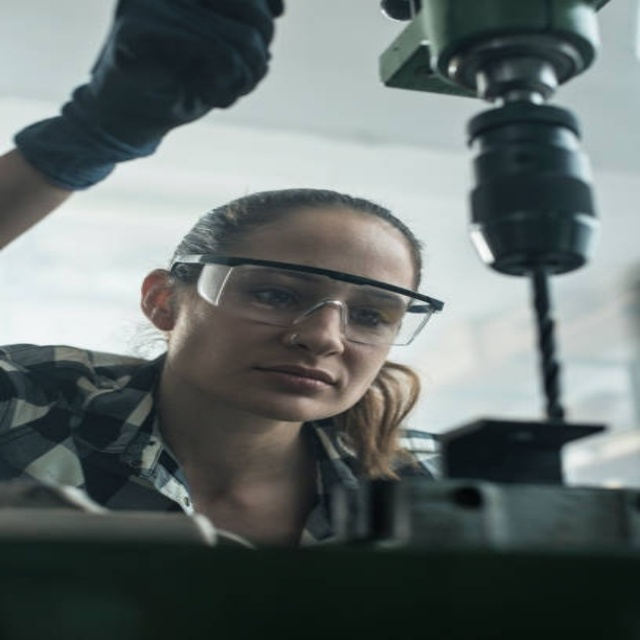Gafas: (172, 257, 441, 348)
Guantes: (14, 0, 292, 190)
Sin_mascara: (235, 356, 348, 411)
